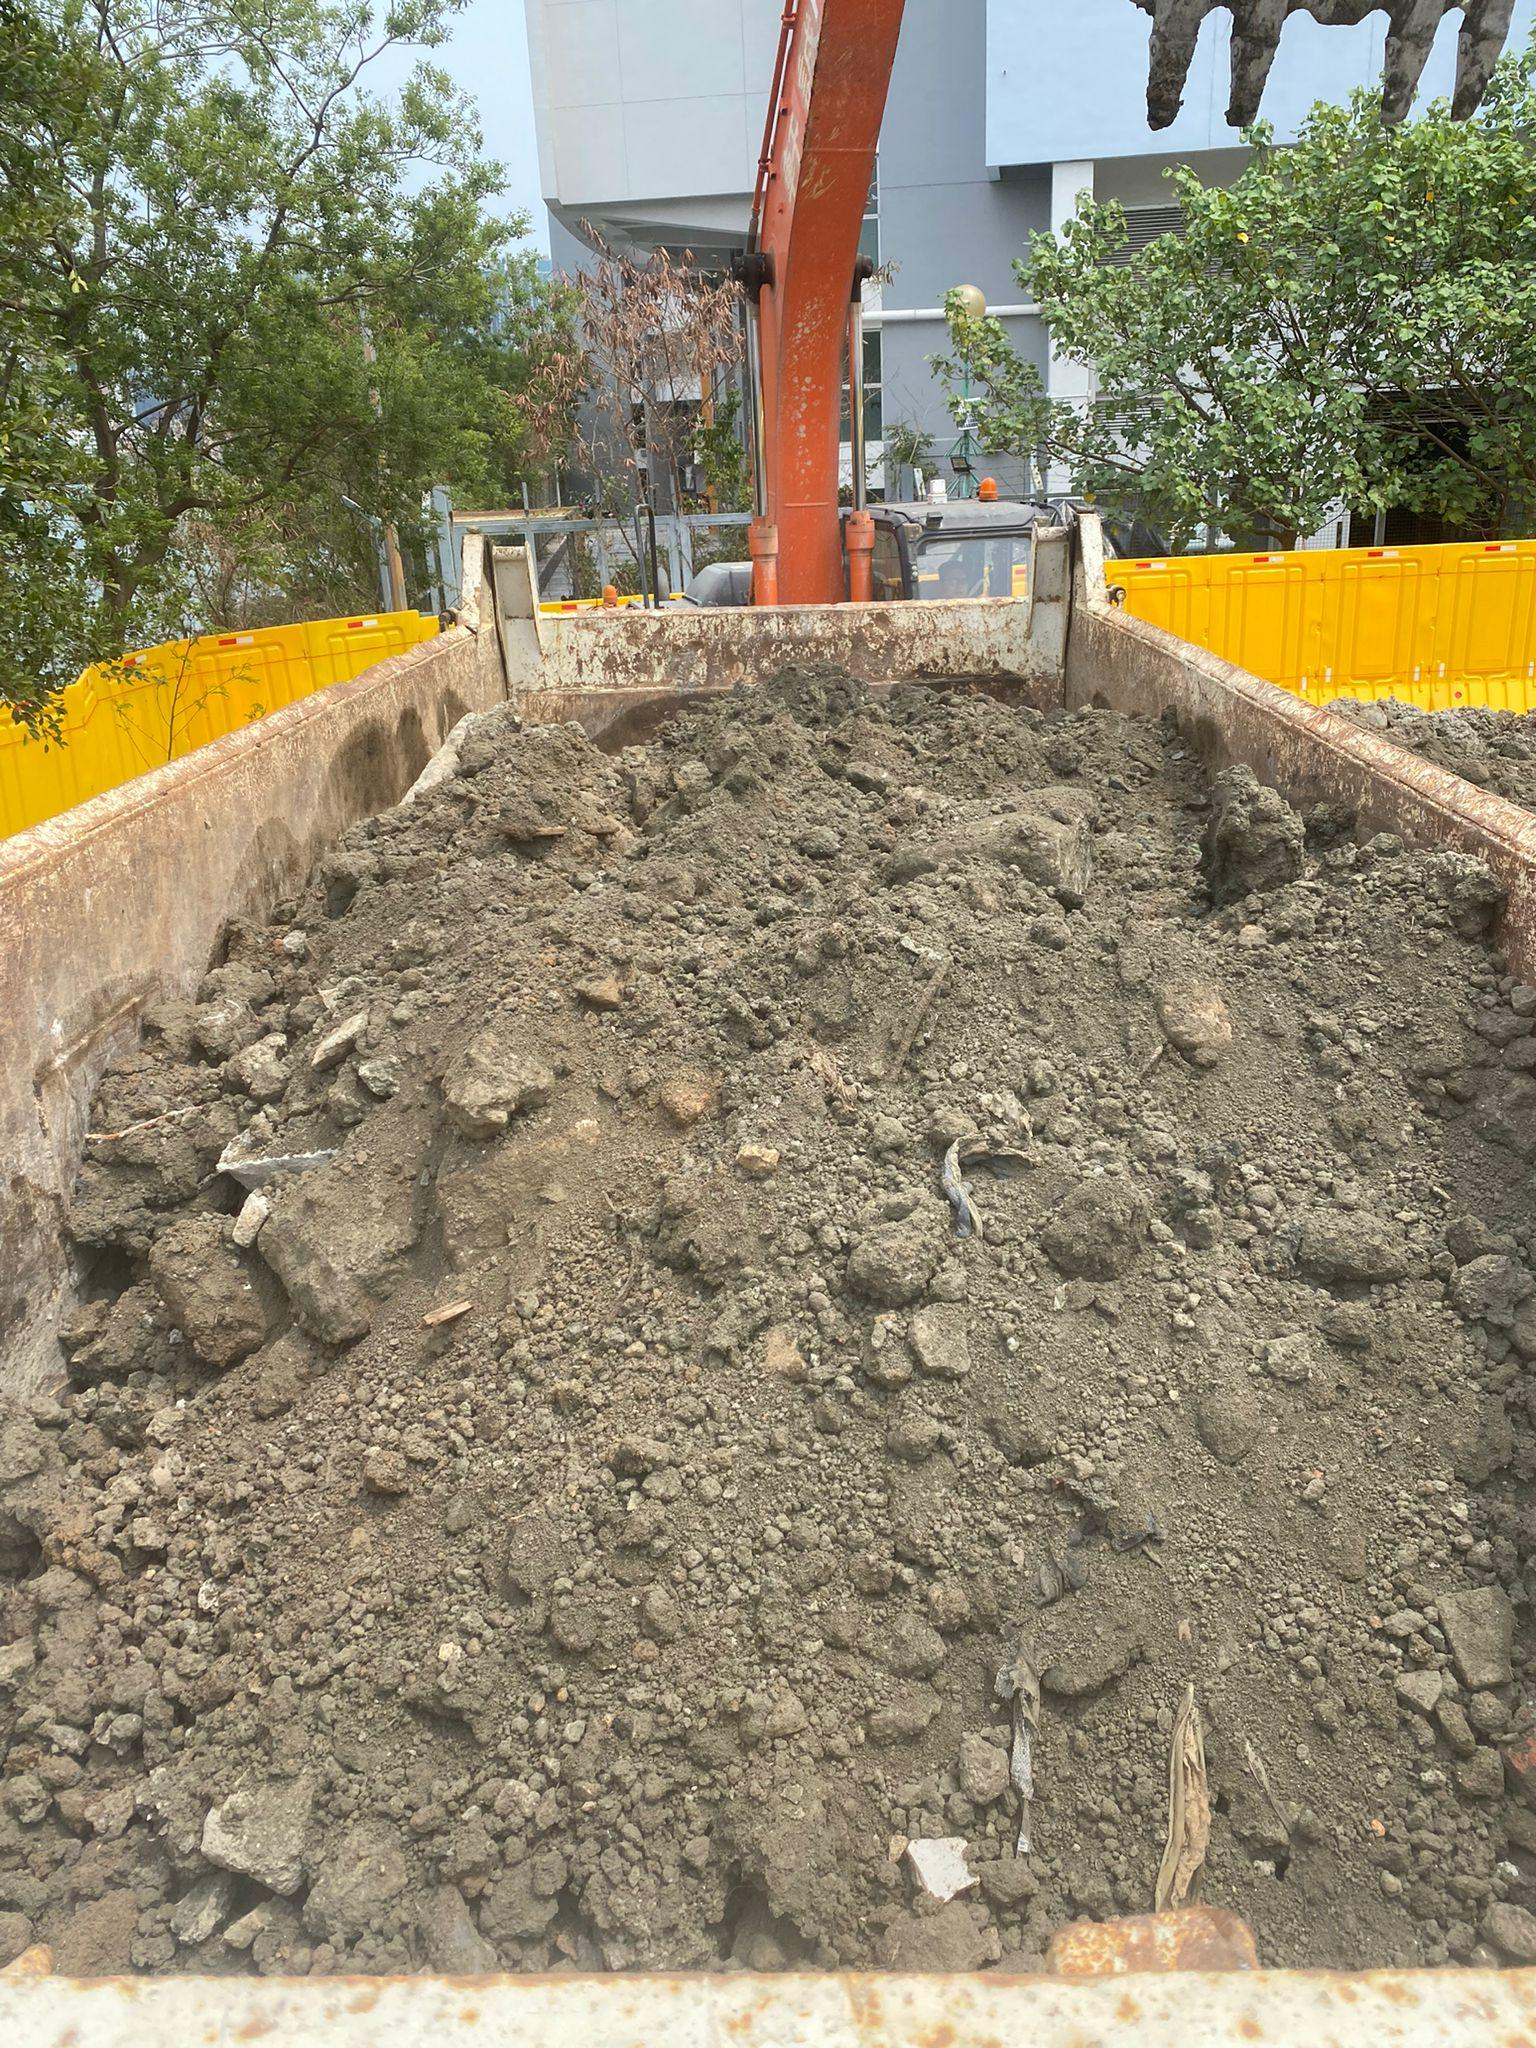wet: (23, 690, 1503, 1963)
